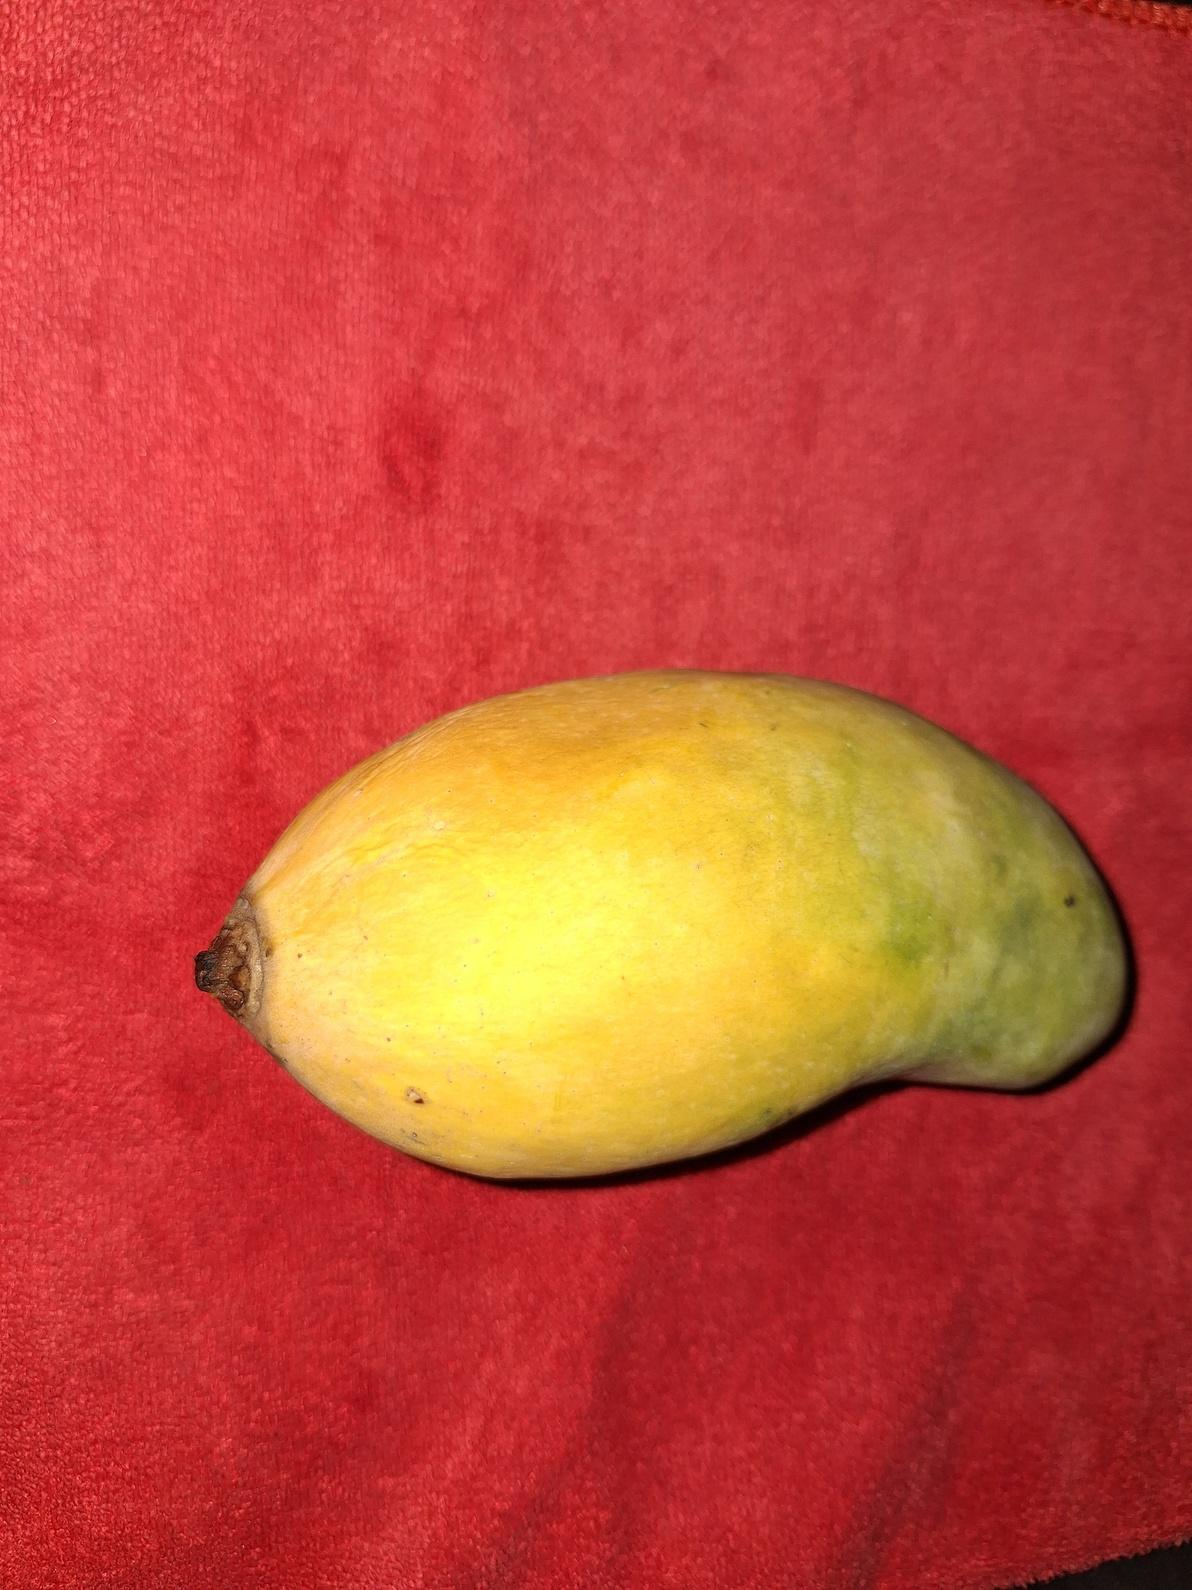mango: (193, 665, 1131, 1183)
